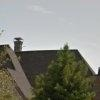Chimney: (12, 32, 28, 68)
